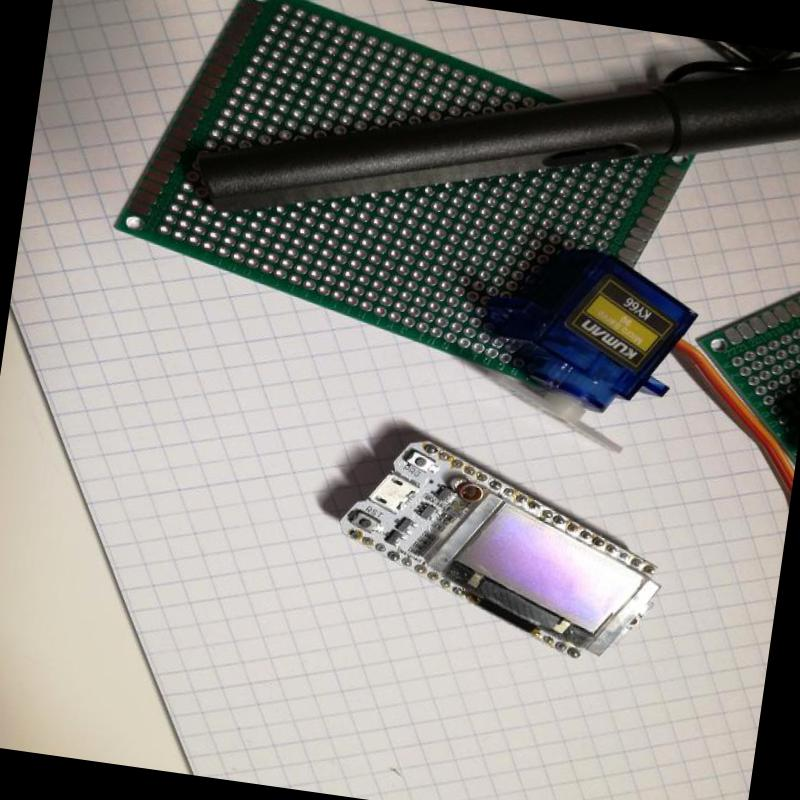Heltec_ESP32_Lora: (318, 421, 680, 684)
